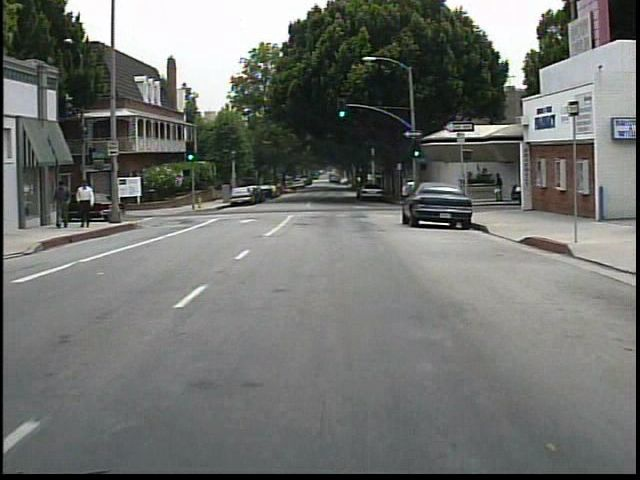person: (81, 179, 103, 230), (55, 179, 76, 232), (489, 170, 508, 205)
